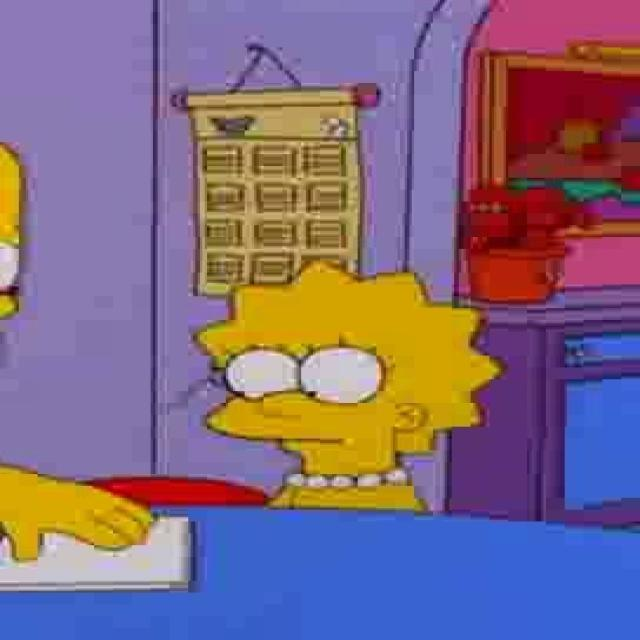Lisa Simpson: (192, 255, 509, 489)
